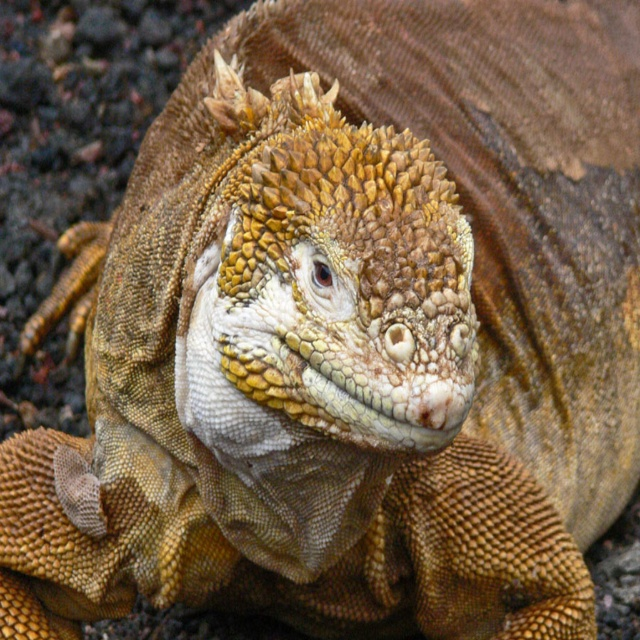Lizard: (0, 0, 640, 638)
